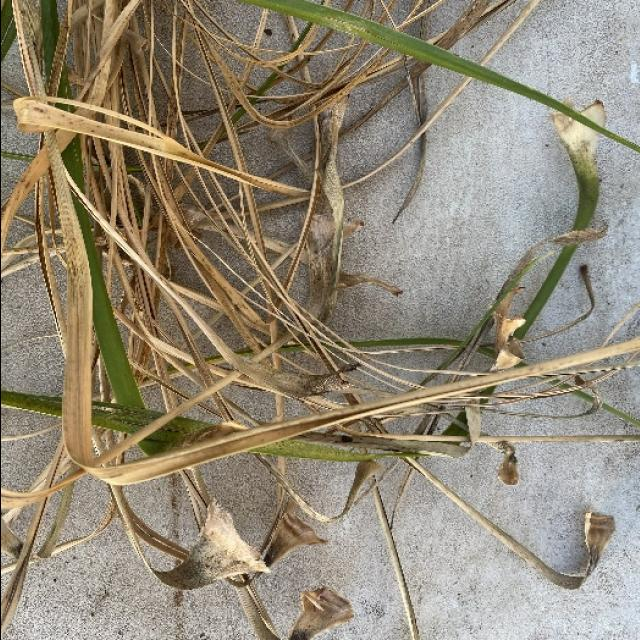organik: (11, 17, 637, 613)
